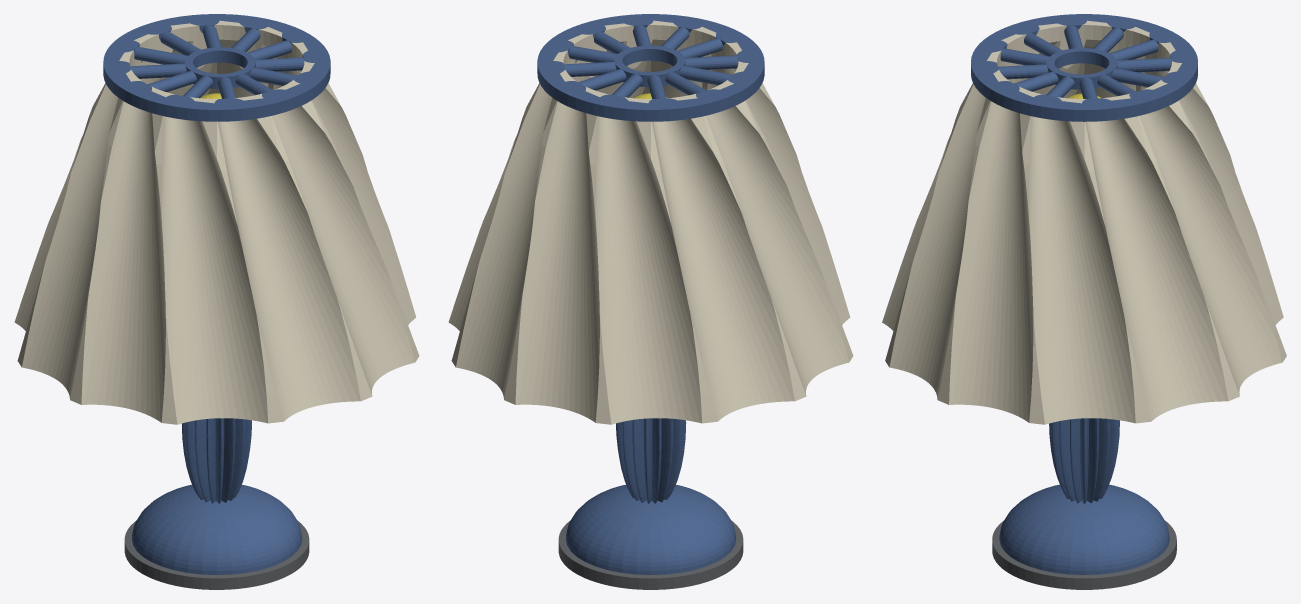
The model's file is lamp_2.glb.
3 renders of one model, left to right at view 1: azimuth 30°, elevation 25°; view 2: azimuth 150°, elevation 25°; view 3: azimuth 270°, elevation 25°, orthographic.
Visible parts, largest first — view 1: Mesh_Mesh_head_geo.001_lambert2SG.001; view 2: Mesh_Mesh_head_geo.001_lambert2SG.001; view 3: Mesh_Mesh_head_geo.001_lambert2SG.001.
Boxes of the visible parts, bbox=[...] form: Mesh_Mesh_head_geo.001_lambert2SG.001: bbox=[14, 14, 419, 589]; Mesh_Mesh_head_geo.001_lambert2SG.001: bbox=[448, 14, 853, 589]; Mesh_Mesh_head_geo.001_lambert2SG.001: bbox=[882, 14, 1286, 589].
Bounding box in the file's own units: 12 × 16 × 12.
